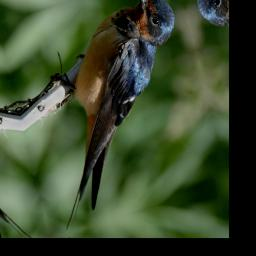Swallow: (15, 0, 217, 231)
